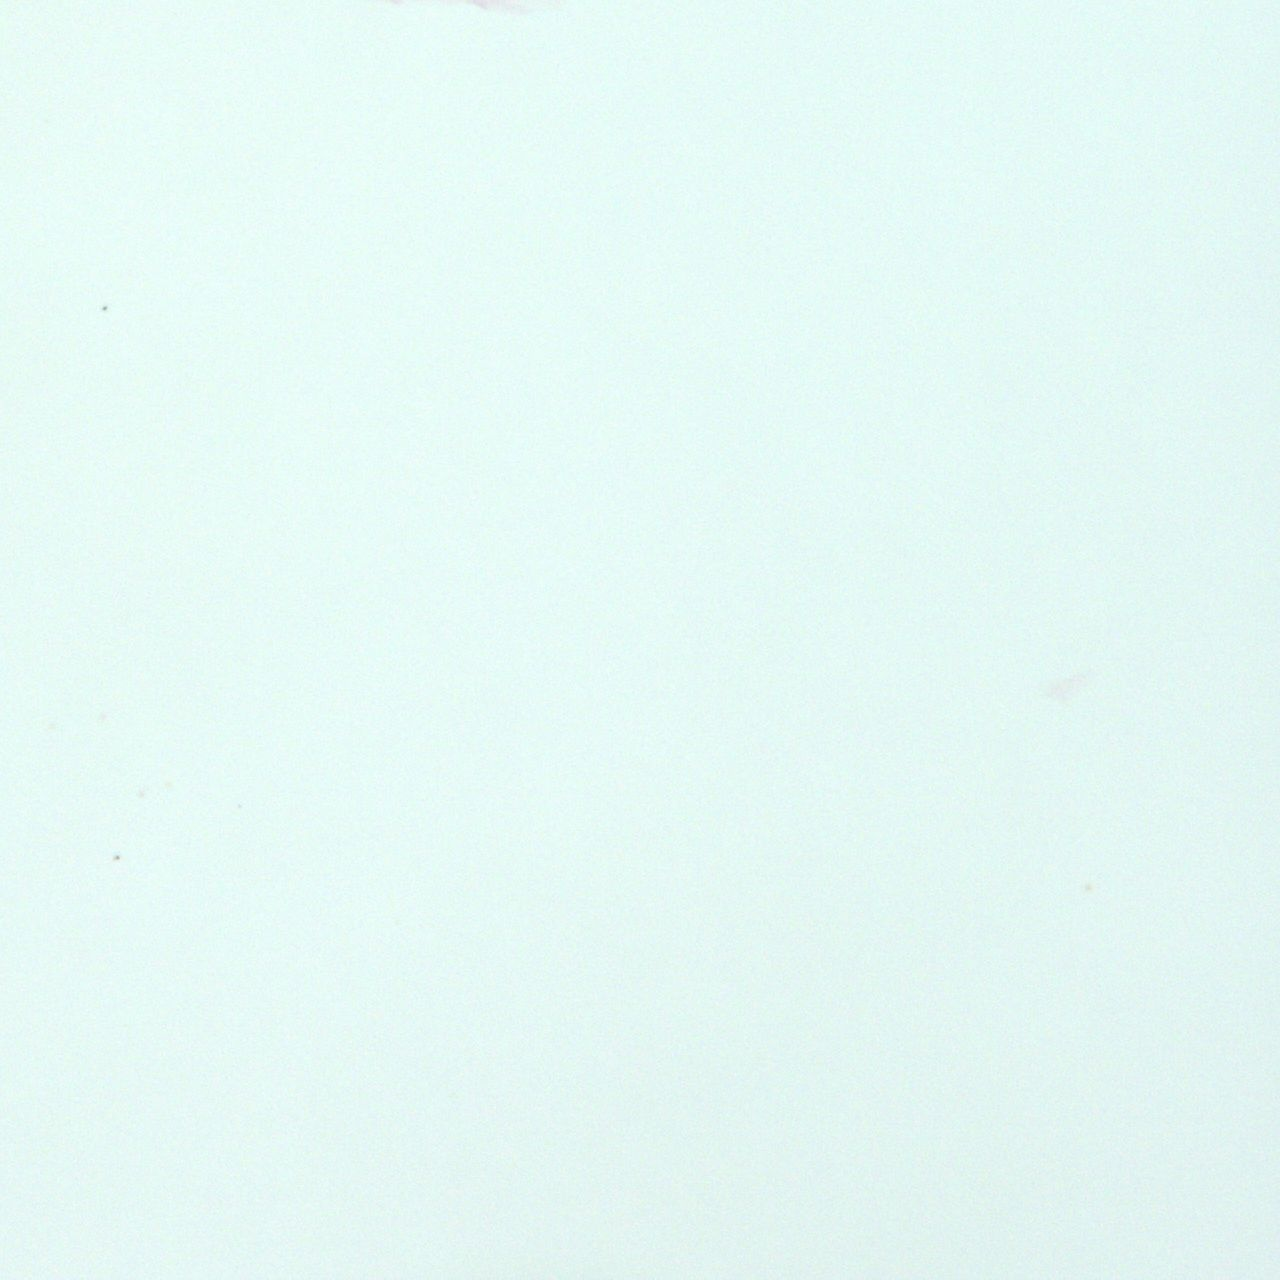dust: (111, 855, 120, 862), (101, 306, 108, 312)
